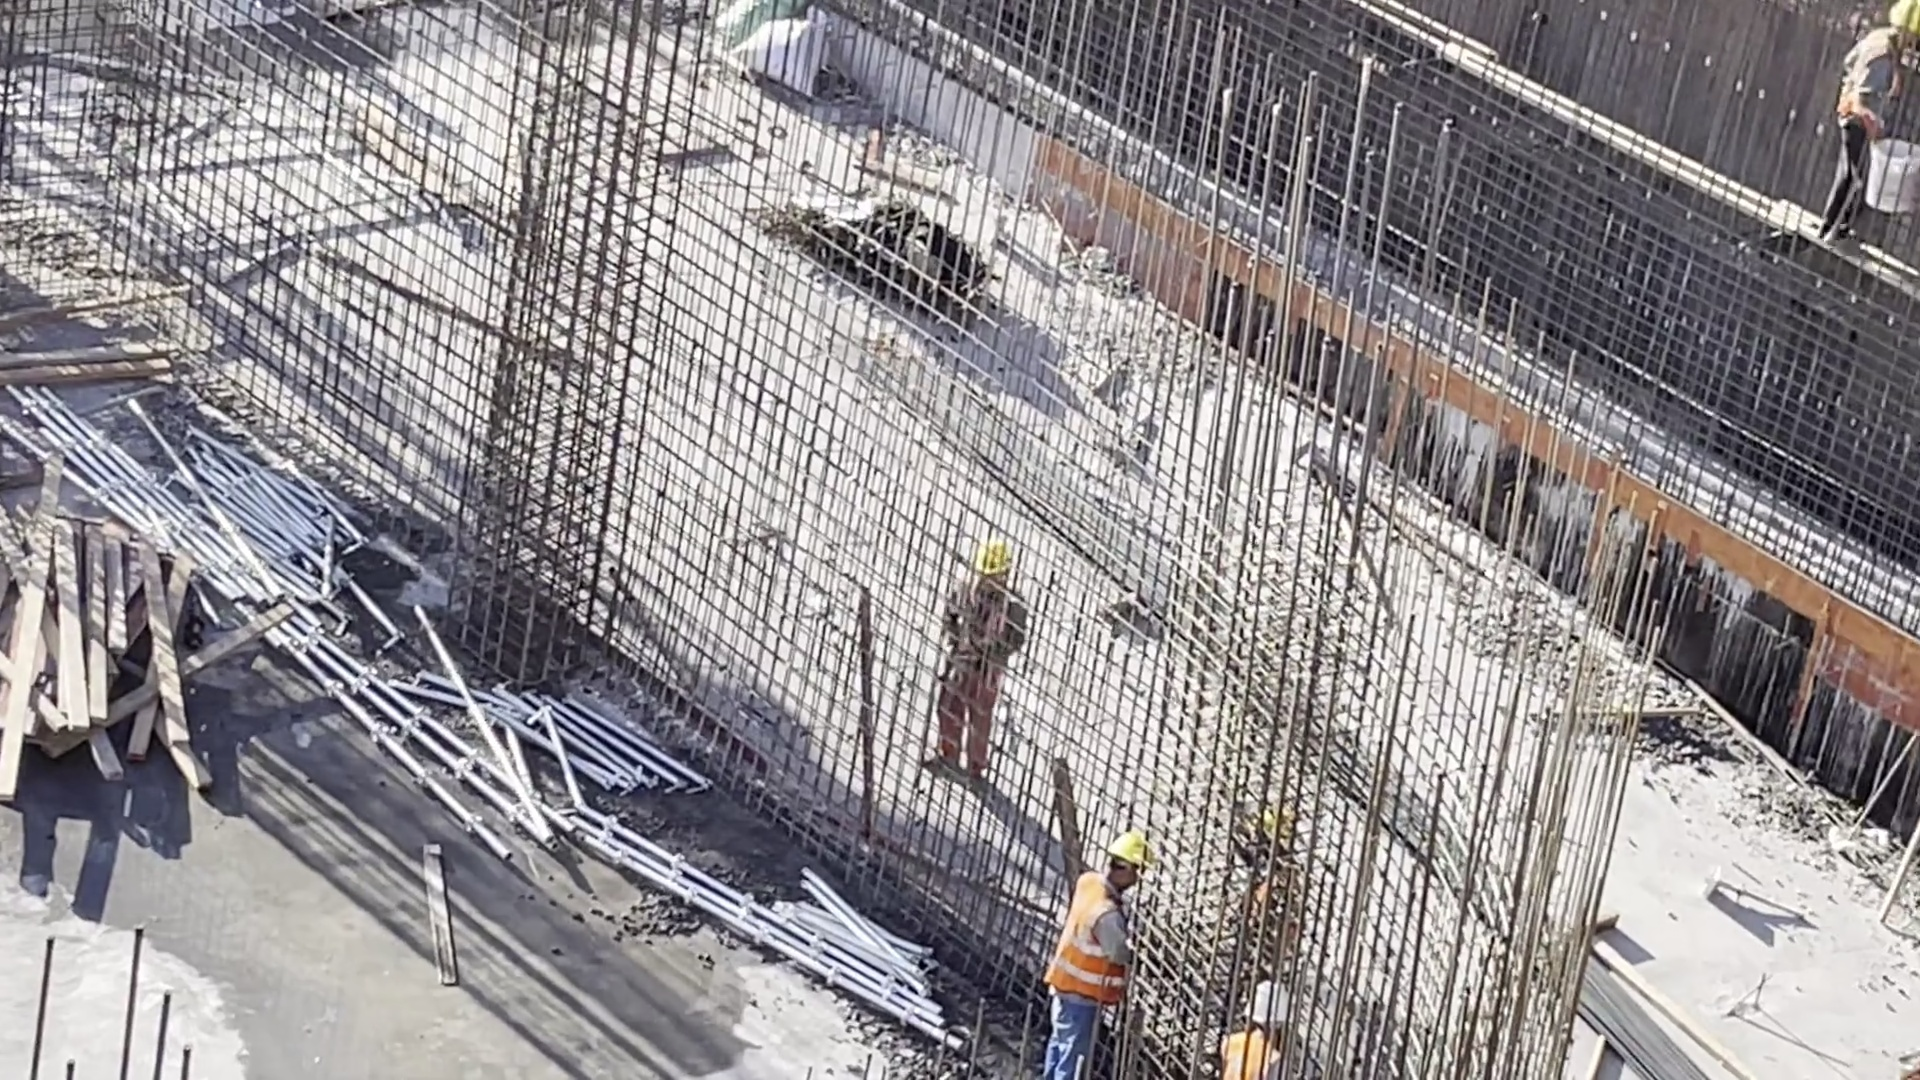helmet: (980, 522, 1048, 589), (1238, 985, 1308, 1028), (1254, 817, 1304, 852), (1114, 828, 1160, 865), (1891, 1, 1918, 35)
person: (1021, 827, 1138, 1078), (926, 537, 1030, 779), (1824, 1, 1920, 242), (1222, 805, 1321, 976), (1219, 972, 1288, 1080)
vest: (1046, 882, 1146, 1008), (941, 596, 1017, 688), (1843, 22, 1903, 136), (1209, 1034, 1285, 1080)
